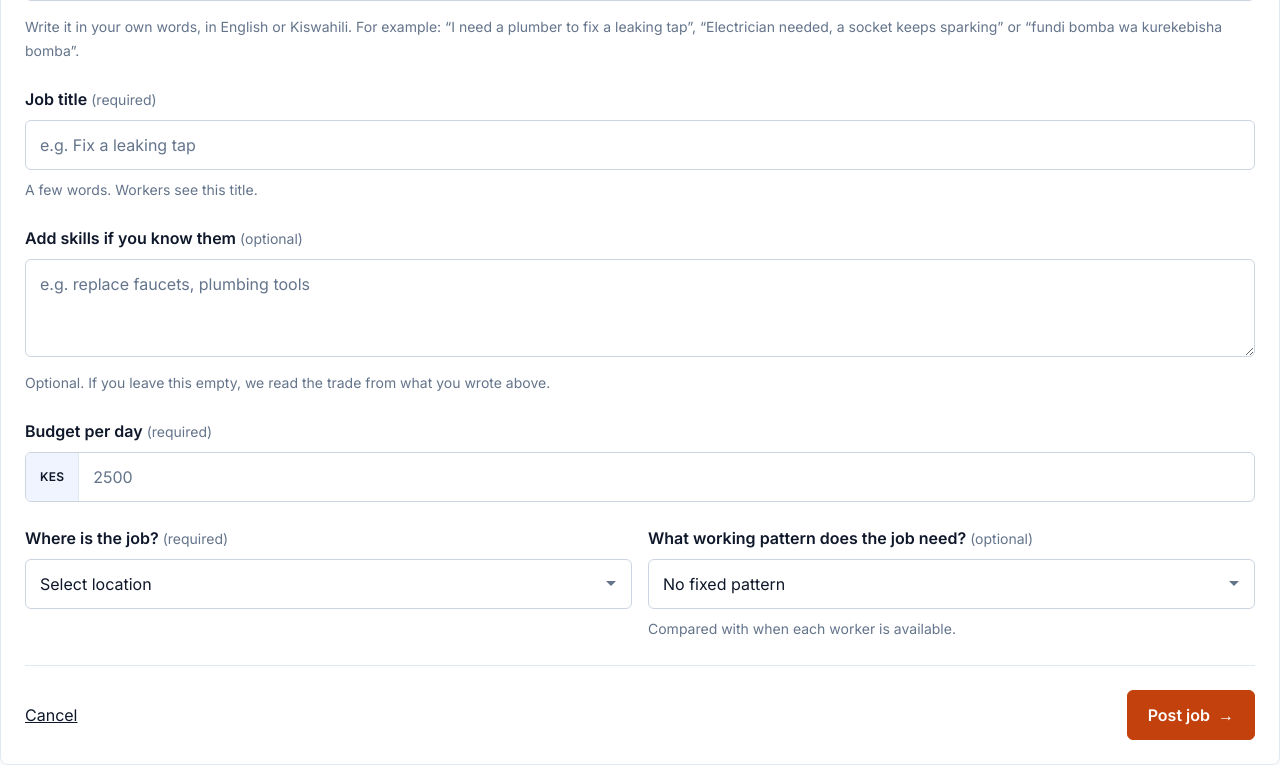
Test case: the skills field is optional, and the description comes first › still requires the description and the title
(page scrolled)
Click the button "Post job →".
click(1191, 715)  # box [1127, 690, 1255, 740]
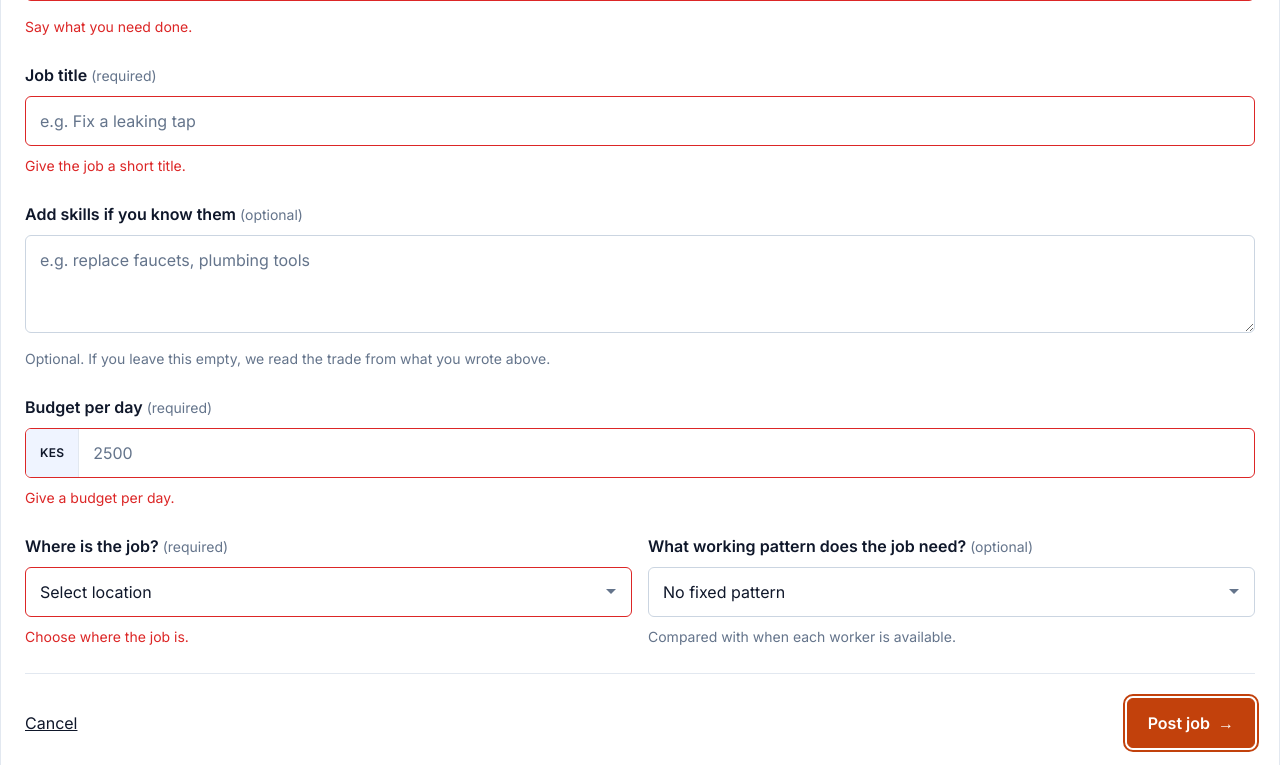
Expected: the text "Say what you need done." is shown, [25, 18, 192, 35]
Expected: the text "Give the job a short title." is shown, [25, 157, 186, 174]
